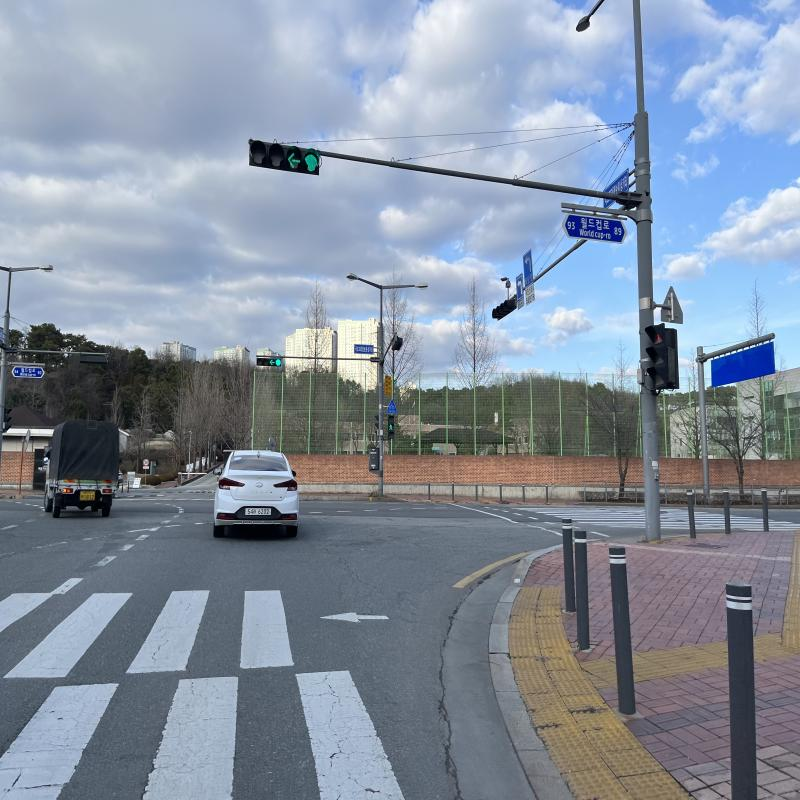green: (303, 148, 319, 175)
left: (285, 146, 303, 171)
